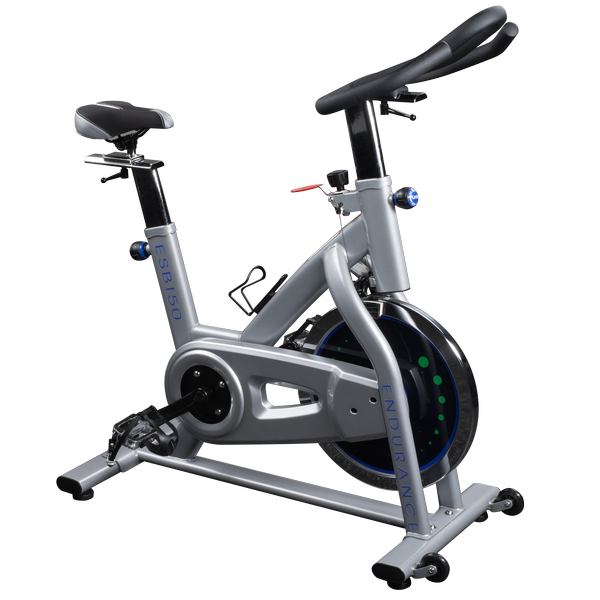gym_bike: (48, 17, 534, 584)
